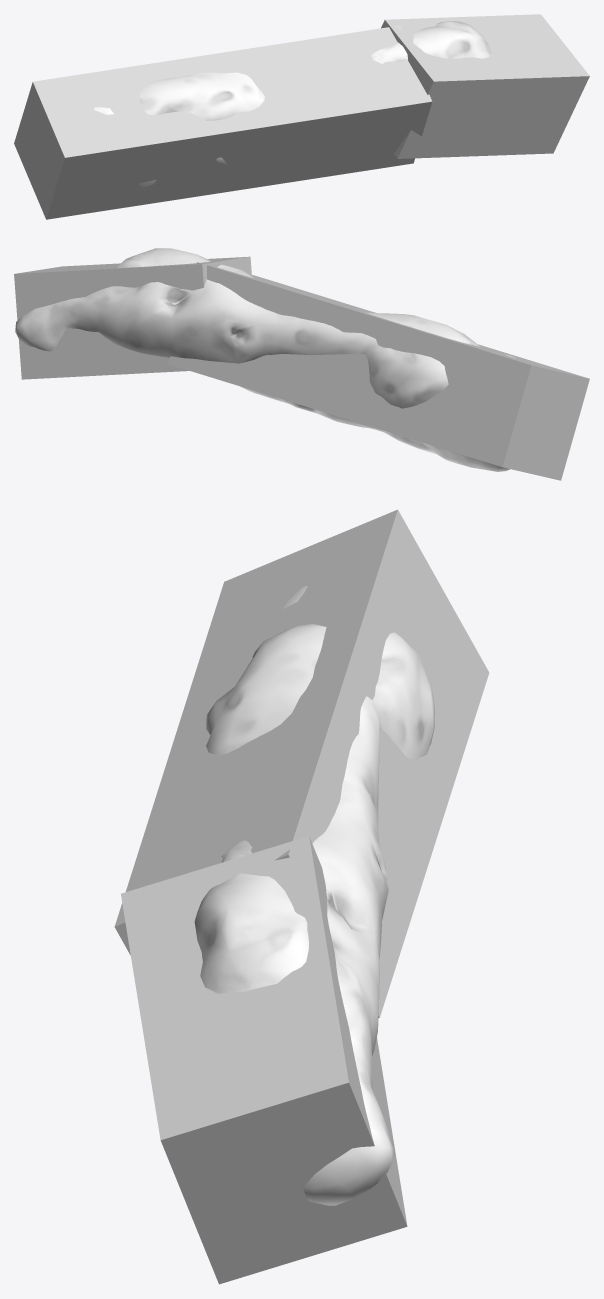
The model's file is Coral_13.glb.
3 views of the same model, one above another, from view 1: azimuth 30°, elevation 25°; view 2: azimuth 150°, elevation 25°; view 3: azimuth 270°, elevation 25° (orthographic). The views are drawn at different scales.
Visible parts, largest first — view 1: Cube.036, Cube.037, A03612_Koralle13.001; view 2: Cube.036, A03612_Koralle13.001, Cube.037; view 3: Cube.036, Cube.037, A03612_Koralle13.001.
Boxes of the visible parts, box(x1,y1,x2,y2) form: Cube.036: box(14, 25, 432, 219); Cube.037: box(381, 14, 589, 158); A03612_Koralle13.001: box(94, 21, 491, 189); Cube.036: box(168, 262, 589, 480); A03612_Koralle13.001: box(15, 248, 515, 471); Cube.037: box(14, 256, 251, 379); Cube.036: box(114, 509, 489, 1018); Cube.037: box(121, 836, 407, 1284); A03612_Koralle13.001: box(194, 586, 434, 1205).
Bounding box in the file's own units: 0.3558 × 0.1036 × 0.1134.
Materials: 1 (1 with a texture image).
